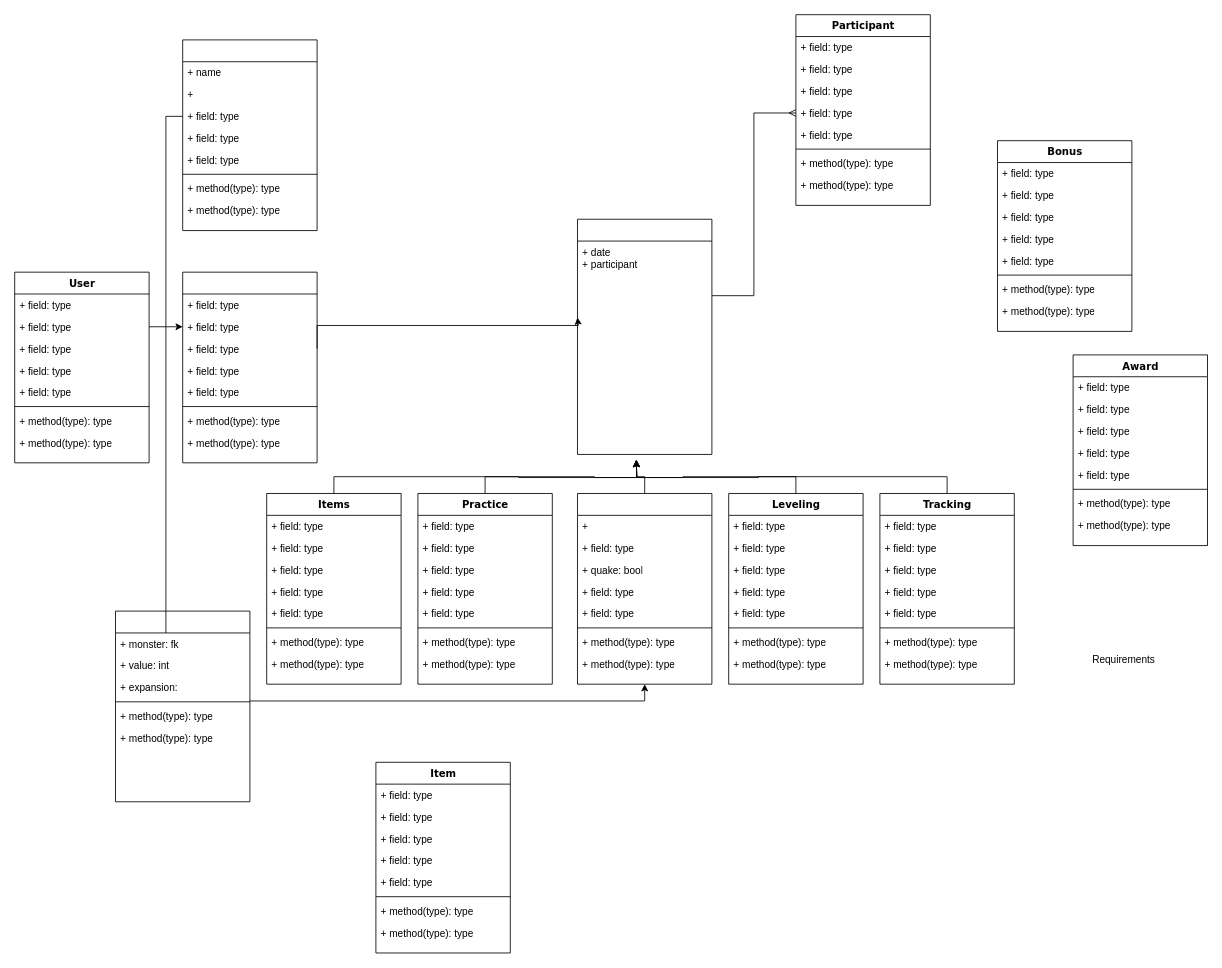
This 1222x968 diagram has some shape labels left out. Here are the shapes that lost their labels. From the top down, the box of each, then its label:
(182, 39, 317, 231): Monster
(577, 218, 712, 454): Event
(182, 271, 317, 463): Character
(577, 493, 712, 684): Raid
(115, 610, 250, 802): RaidProfile
